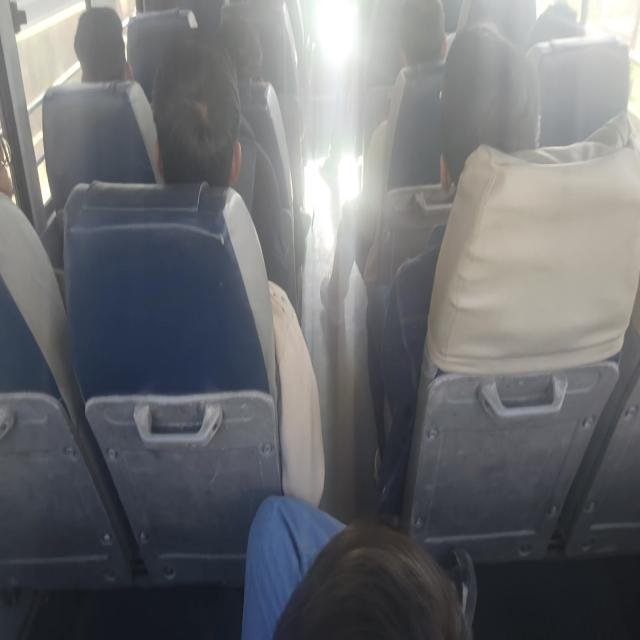person: (278, 525, 482, 640), (443, 47, 552, 224), (158, 59, 237, 183), (199, 10, 272, 96), (66, 12, 132, 105), (398, 0, 449, 69), (0, 112, 26, 212), (531, 0, 589, 40)
